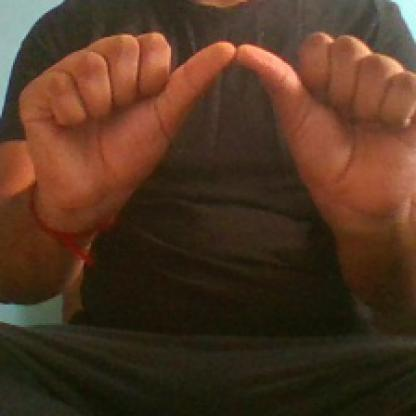A: (10, 22, 416, 239)
